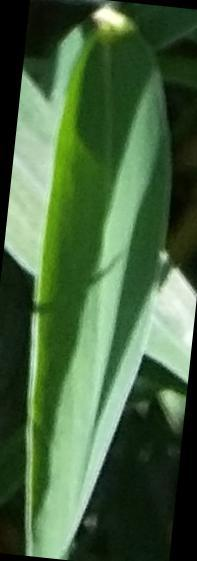Wheat: (74, 50, 155, 229), (49, 246, 164, 336), (34, 351, 75, 552), (88, 349, 125, 410)
